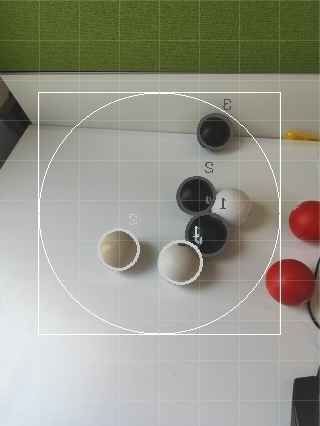Pelota blanca: (157, 238, 207, 286), (95, 228, 143, 272), (213, 185, 254, 227)
Pelota negra: (183, 212, 230, 256), (175, 174, 217, 216), (197, 110, 236, 152)
Pelota roja: (263, 257, 316, 307), (287, 198, 320, 243)
